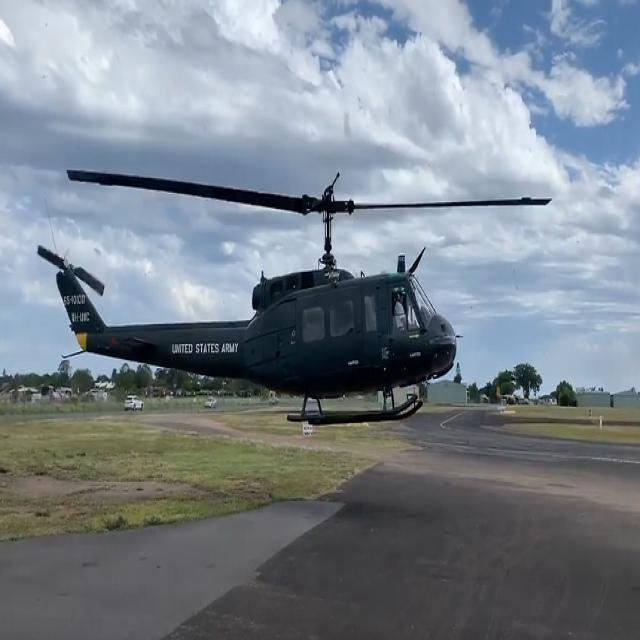helicopter: (37, 144, 556, 436)
